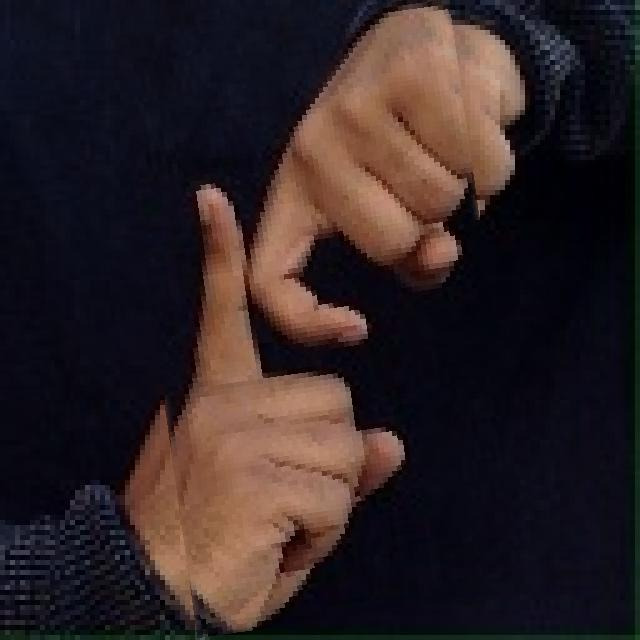K: (133, 0, 512, 627)
